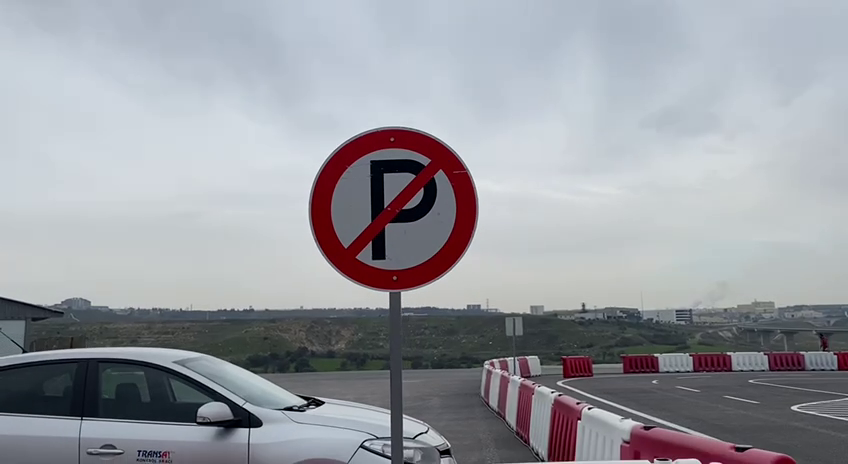noparking: (303, 120, 483, 299)
